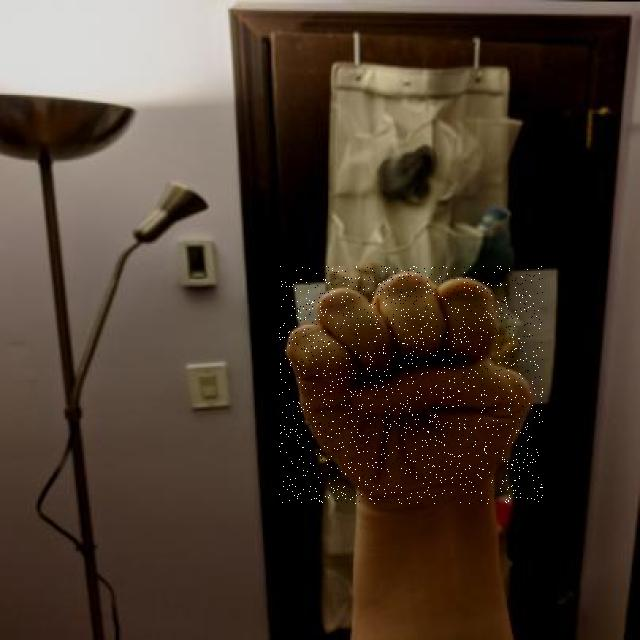E: (279, 266, 543, 504)
